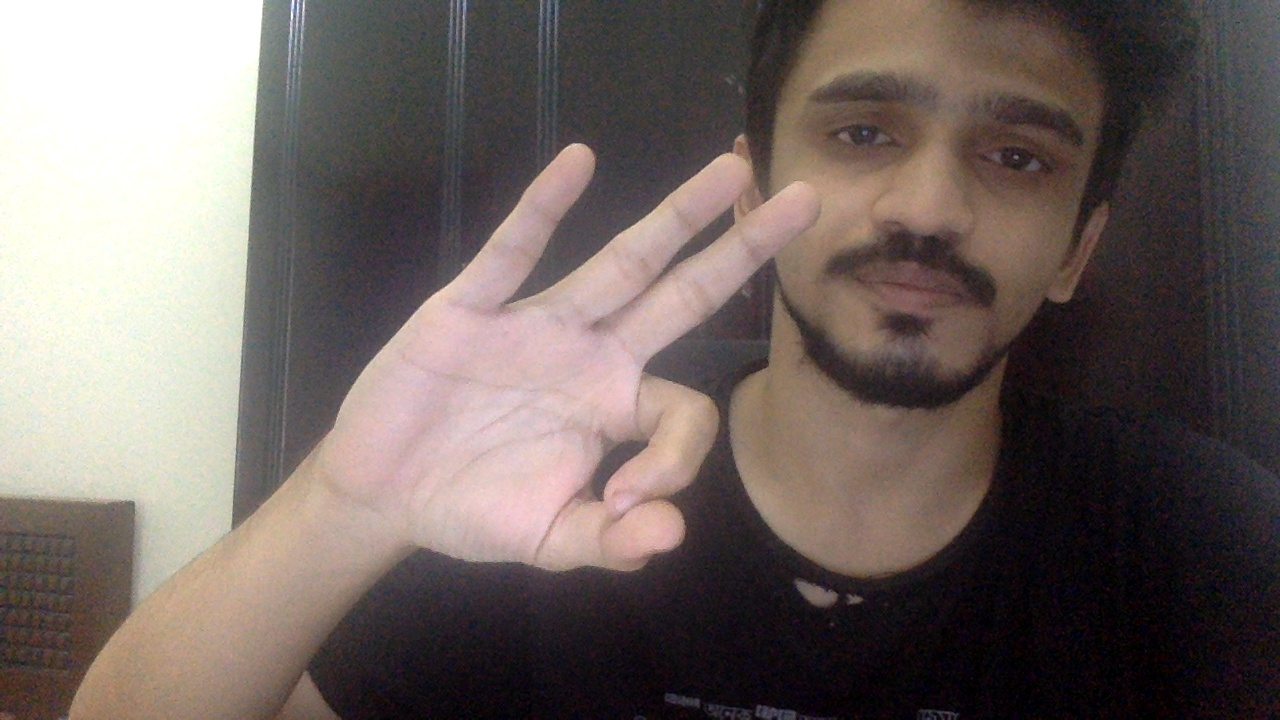perfect: (322, 143, 822, 575)
